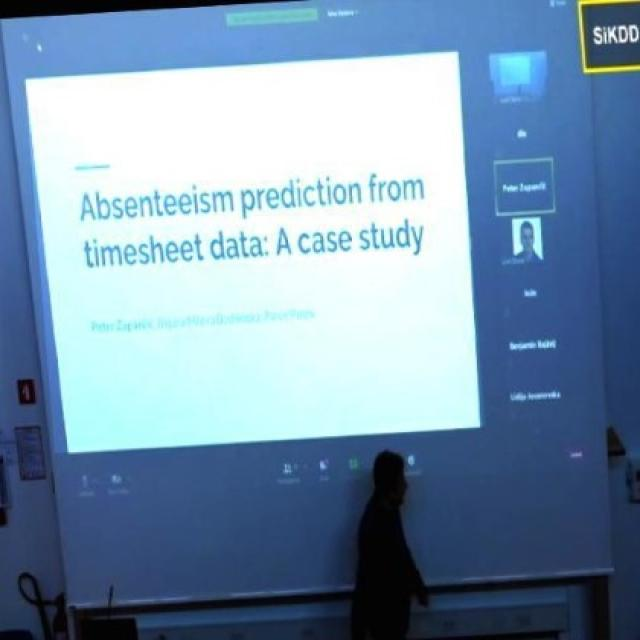Instructor: (345, 432, 435, 628)
Slide: (23, 54, 485, 457)
